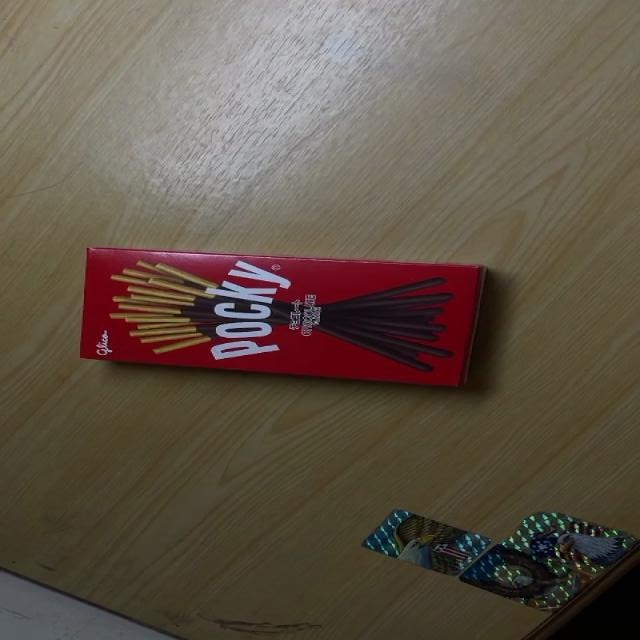Pocky: (80, 247, 487, 388)
